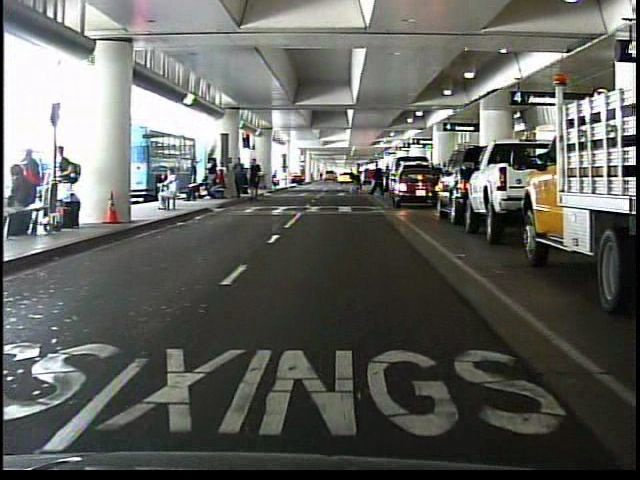person: (152, 168, 182, 214), (369, 158, 388, 202), (185, 156, 201, 205), (347, 160, 368, 196)
